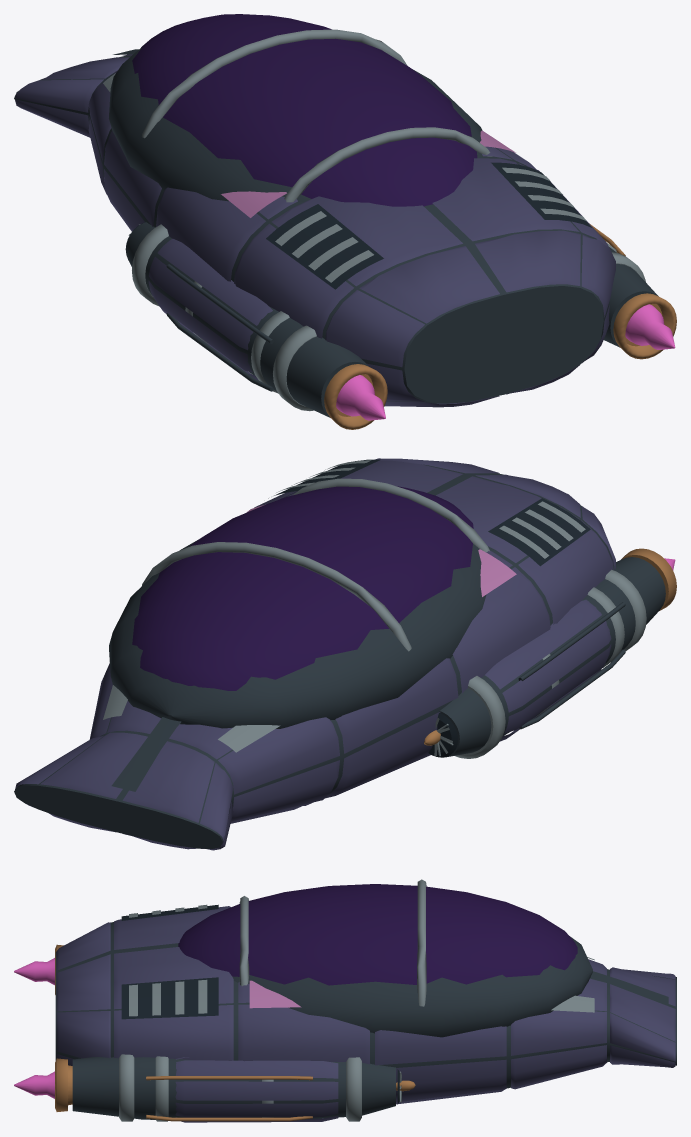
Rendered from traffic.glb.
3 views of the same model, one above another, from view 1: azimuth 30°, elevation 25°; view 2: azimuth 150°, elevation 25°; view 3: azimuth 270°, elevation 25° (orthographic). The views are drawn at different scales.
Visible parts, largest first — view 1: traffic; view 2: traffic; view 3: traffic.
Part boxes in pixels (box(x1,y1,x2,y2)): traffic: box(14, 14, 676, 429); traffic: box(14, 458, 676, 850); traffic: box(14, 879, 676, 1122).
Size of the model in its own units: 3.82 by 2.23 by 7.36.
